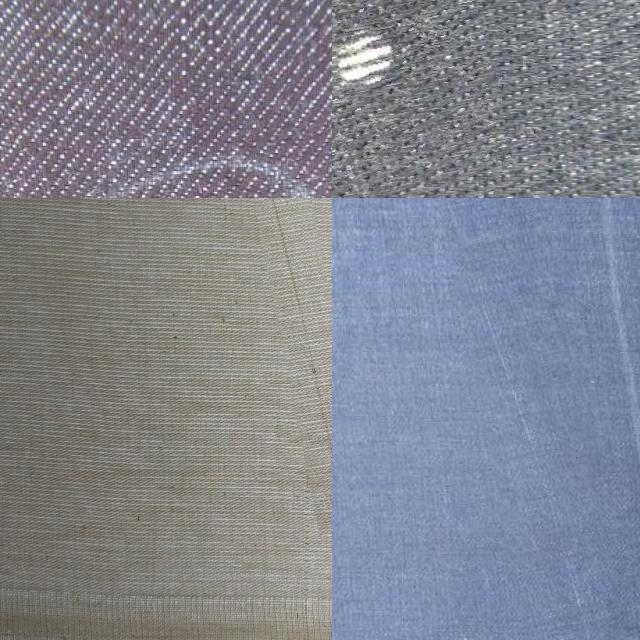stains: (468, 198, 622, 640), (332, 0, 504, 198), (259, 198, 332, 532)
